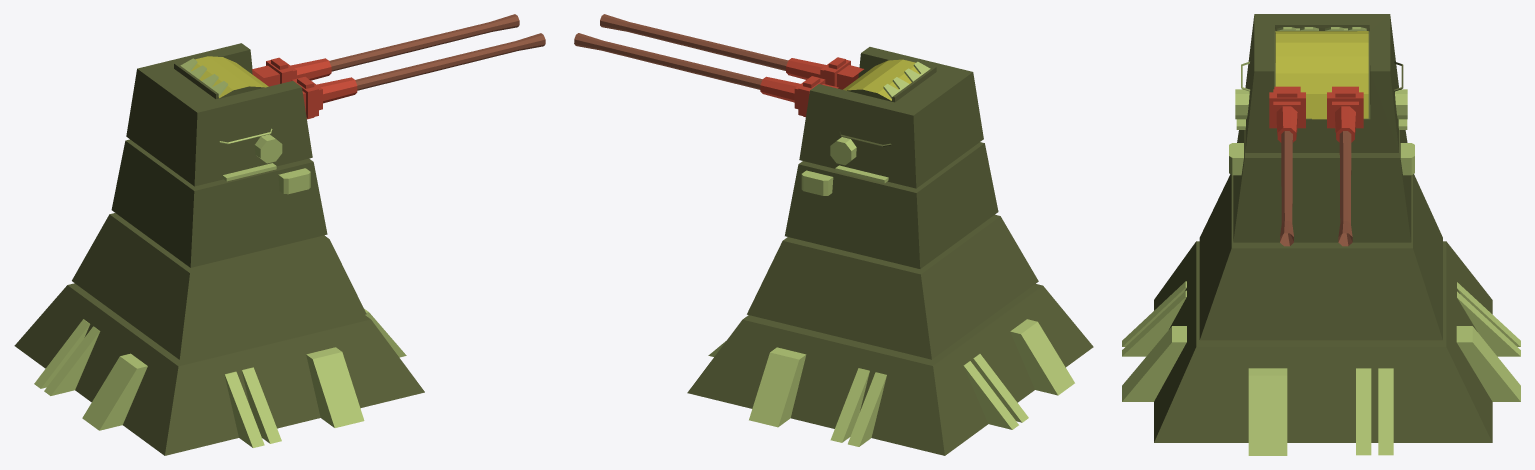
The model's file is Cannon-R-2.fbx.
3 renders of one model, left to right at view 1: azimuth 30°, elevation 25°; view 2: azimuth 150°, elevation 25°; view 3: azimuth 270°, elevation 25°, orthographic. The views are drawn at different scales.
Parts seen in each view (by area): view 1: russian_level1_6:base, russian_level1_5:attack; view 2: russian_level1_6:base, russian_level1_5:attack; view 3: russian_level1_6:base, russian_level1_5:attack.
Part boxes in pixels (bbox=[...]): russian_level1_6:base: bbox=[14, 43, 424, 455]; russian_level1_5:attack: bbox=[252, 14, 545, 119]; russian_level1_6:base: bbox=[687, 47, 1093, 455]; russian_level1_5:attack: bbox=[574, 14, 863, 117]; russian_level1_6:base: bbox=[1122, 14, 1520, 455]; russian_level1_5:attack: bbox=[1269, 86, 1363, 246].
Bounding box in the file's own units: 1324 × 827 × 881.
